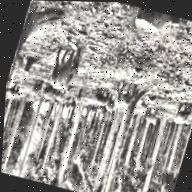boar: (40, 38, 100, 104), (112, 78, 145, 113), (168, 101, 192, 136), (144, 104, 165, 128), (93, 90, 109, 109), (103, 100, 115, 118)
